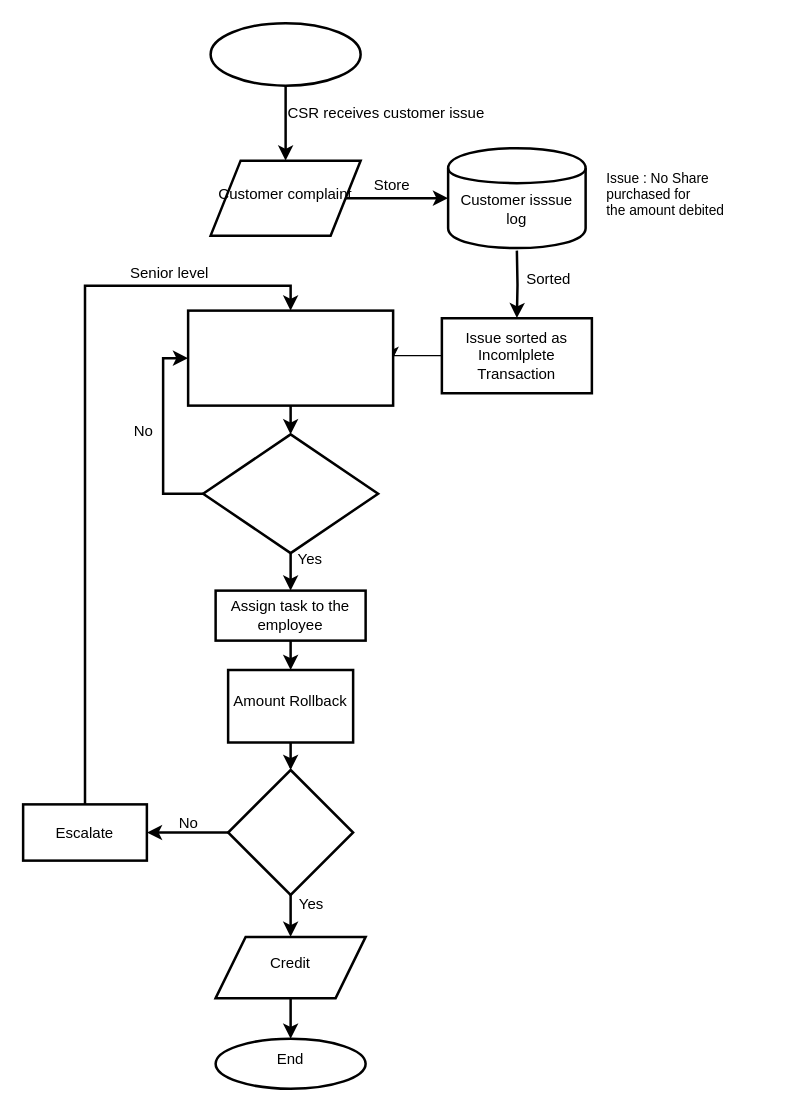
Some shapes in this 788 by 1111 pixel diagram are drawn without their labels. The box of each missing label's shape, as (x1, y1, x2, y2) in pixels:
Begin: (209, 21, 361, 86)
Engineer with experience in Incomplete transaction is selected: (186, 309, 394, 406)
Is the employee fit for the job?: (201, 432, 379, 554)
Success?: (226, 768, 354, 896)
